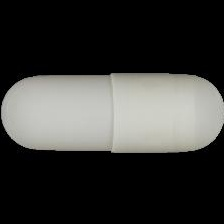68084-555: (0, 0, 224, 224)
